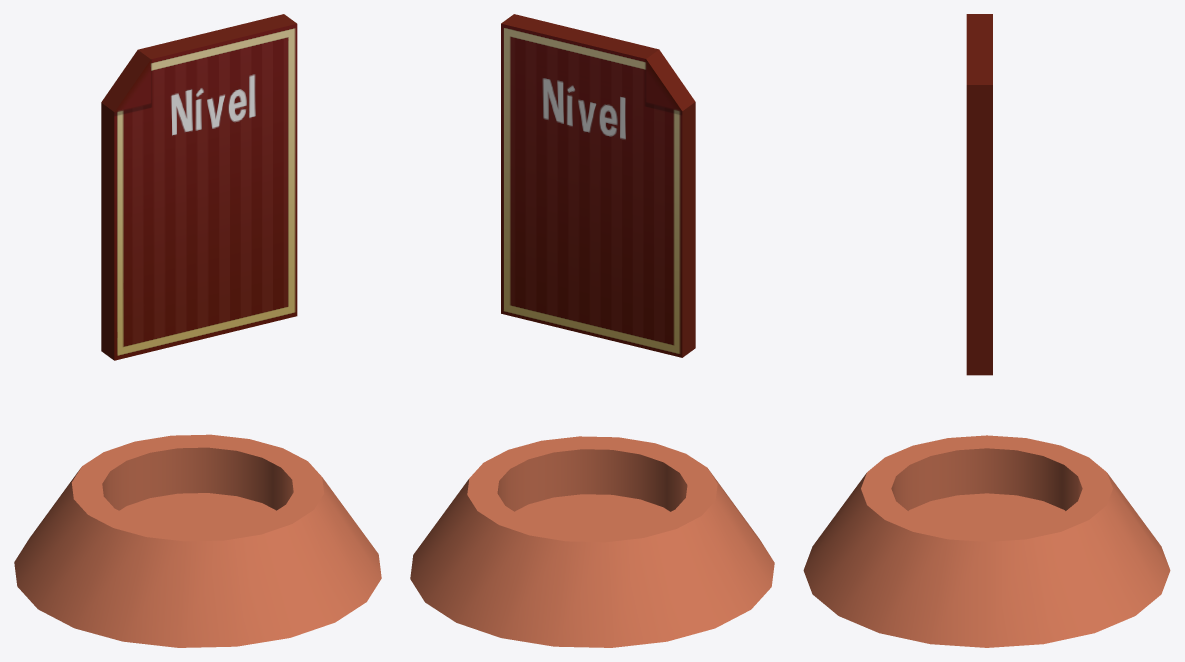
Rendered from bandeira_base2.0.fbx.
The picture shows the model from 3 angles, left to right: view 1: azimuth 30°, elevation 25°; view 2: azimuth 150°, elevation 25°; view 3: azimuth 270°, elevation 25°; orthographic projection.
Visible parts, largest first — view 1: pCylinder2, pCube1; view 2: pCylinder2, pCube1; view 3: pCylinder2, pCube1.
Part boxes in pixels (left/top/right/bottom): pCylinder2: left=14, top=434, right=381, bottom=647; pCube1: left=101, top=14, right=297, bottom=360; pCylinder2: left=410, top=436, right=774, bottom=647; pCube1: left=501, top=14, right=695, bottom=357; pCylinder2: left=803, top=435, right=1170, bottom=647; pCube1: left=966, top=14, right=992, bottom=375.
Bounding box in the file's own units: 4.67 × 7.42 × 4.67.
2 materials, 1 textured.
